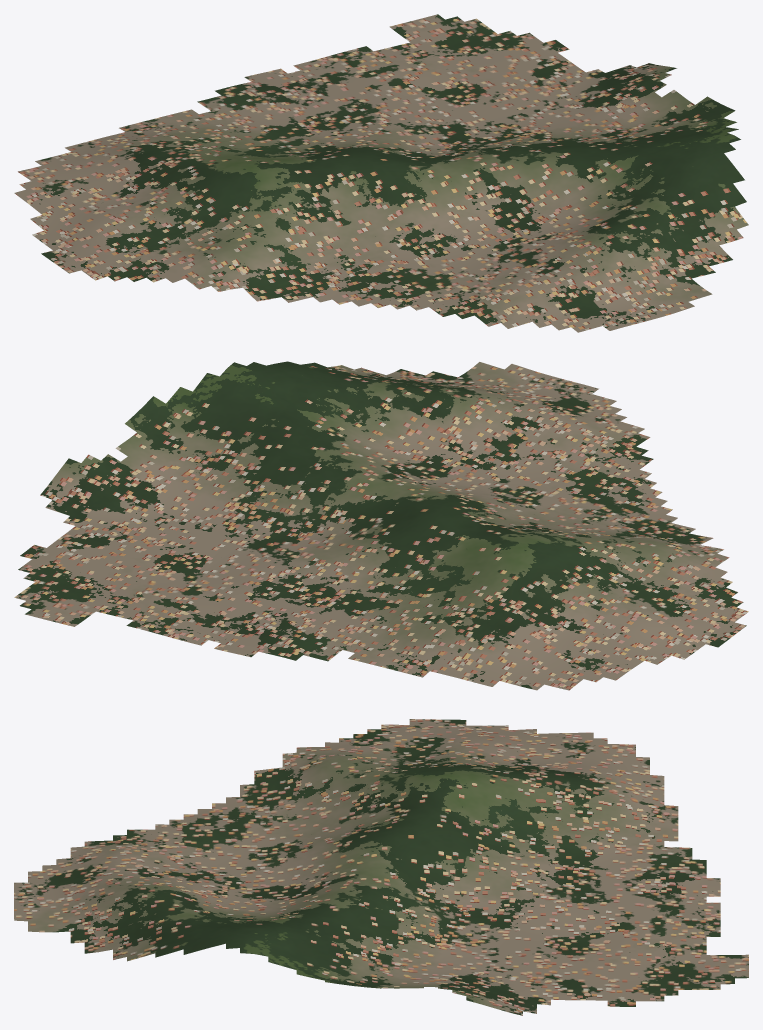
File: SM_Fondale_Colle_Suolo_01.fbx
3 views of the same model, one above another, from view 1: azimuth 30°, elevation 25°; view 2: azimuth 150°, elevation 25°; view 3: azimuth 270°, elevation 25° (orthographic). The views are drawn at different scales.
Visible parts, largest first — view 1: SM_Fondale_Colle_Suolo_01; view 2: SM_Fondale_Colle_Suolo_01; view 3: SM_Fondale_Colle_Suolo_01.
Boxes of the visible parts, x1=… form: SM_Fondale_Colle_Suolo_01: x1=14, y1=14, x2=748, y2=332; SM_Fondale_Colle_Suolo_01: x1=14, y1=361, x2=748, y2=690; SM_Fondale_Colle_Suolo_01: x1=14, y1=719, x2=748, y2=1015.
Size of the model in its own units: 117000 by 117000 by 9395.
1 material, 1 textured.
